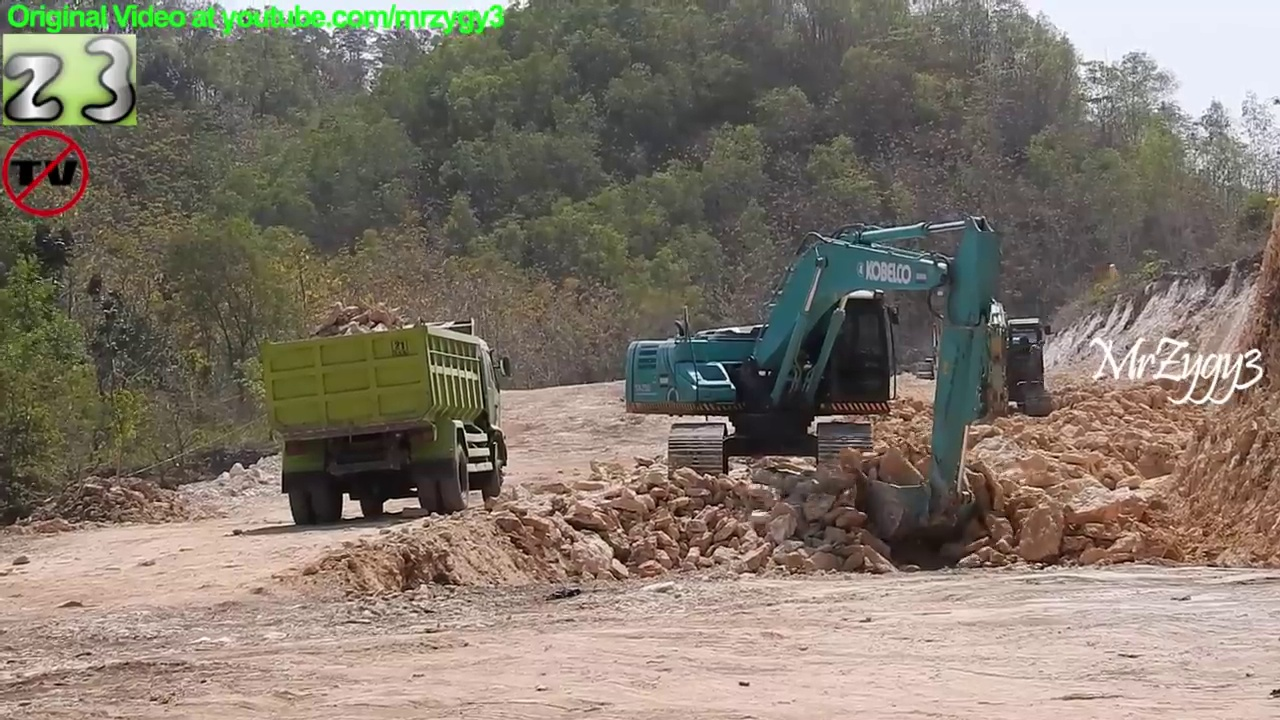excavator: (620, 203, 1006, 550), (943, 288, 1060, 434), (910, 269, 991, 386)
truck: (255, 312, 517, 531)
